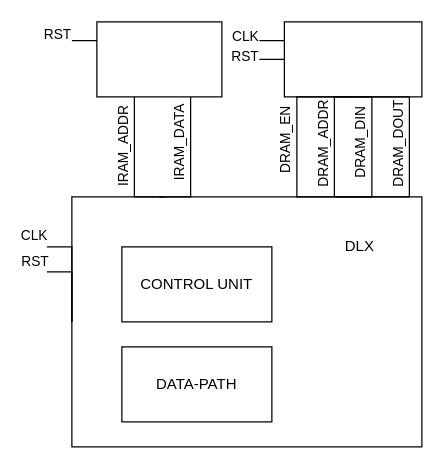
Some shapes in this 445 by 469 pixel diagram are drawn without their labels. Each missing label, with the centre of its shape:
DRAM: pixel 352 59
IROM: pixel 159 59
